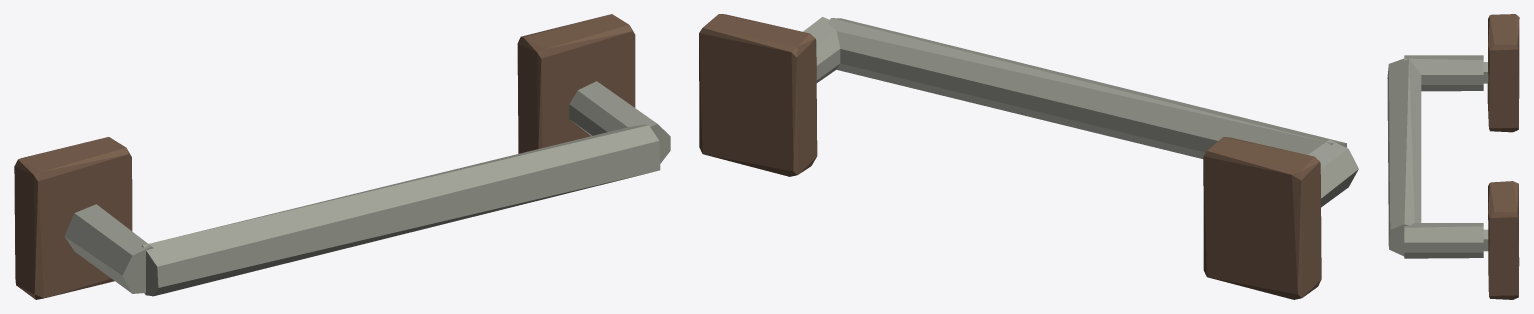
The model's file is drawer_handle_low.glb.
3 renders of one model, left to right at view 1: azimuth 30°, elevation 25°; view 2: azimuth 150°, elevation 25°; view 3: azimuth 270°, elevation 25°, orthographic. The views are drawn at different scales.
Parts seen in each view (by area): view 1: drawer_handle.001; view 2: drawer_handle.001; view 3: drawer_handle.001.
Boxes of the visible parts, x1=… form: drawer_handle.001: x1=14, y1=14, x2=670, y2=299; drawer_handle.001: x1=699, y1=14, x2=1358, y2=299; drawer_handle.001: x1=1387, y1=14, x2=1519, y2=299.
Size of the model in its own units: 0.2387 by 0.049 by 0.0666.
